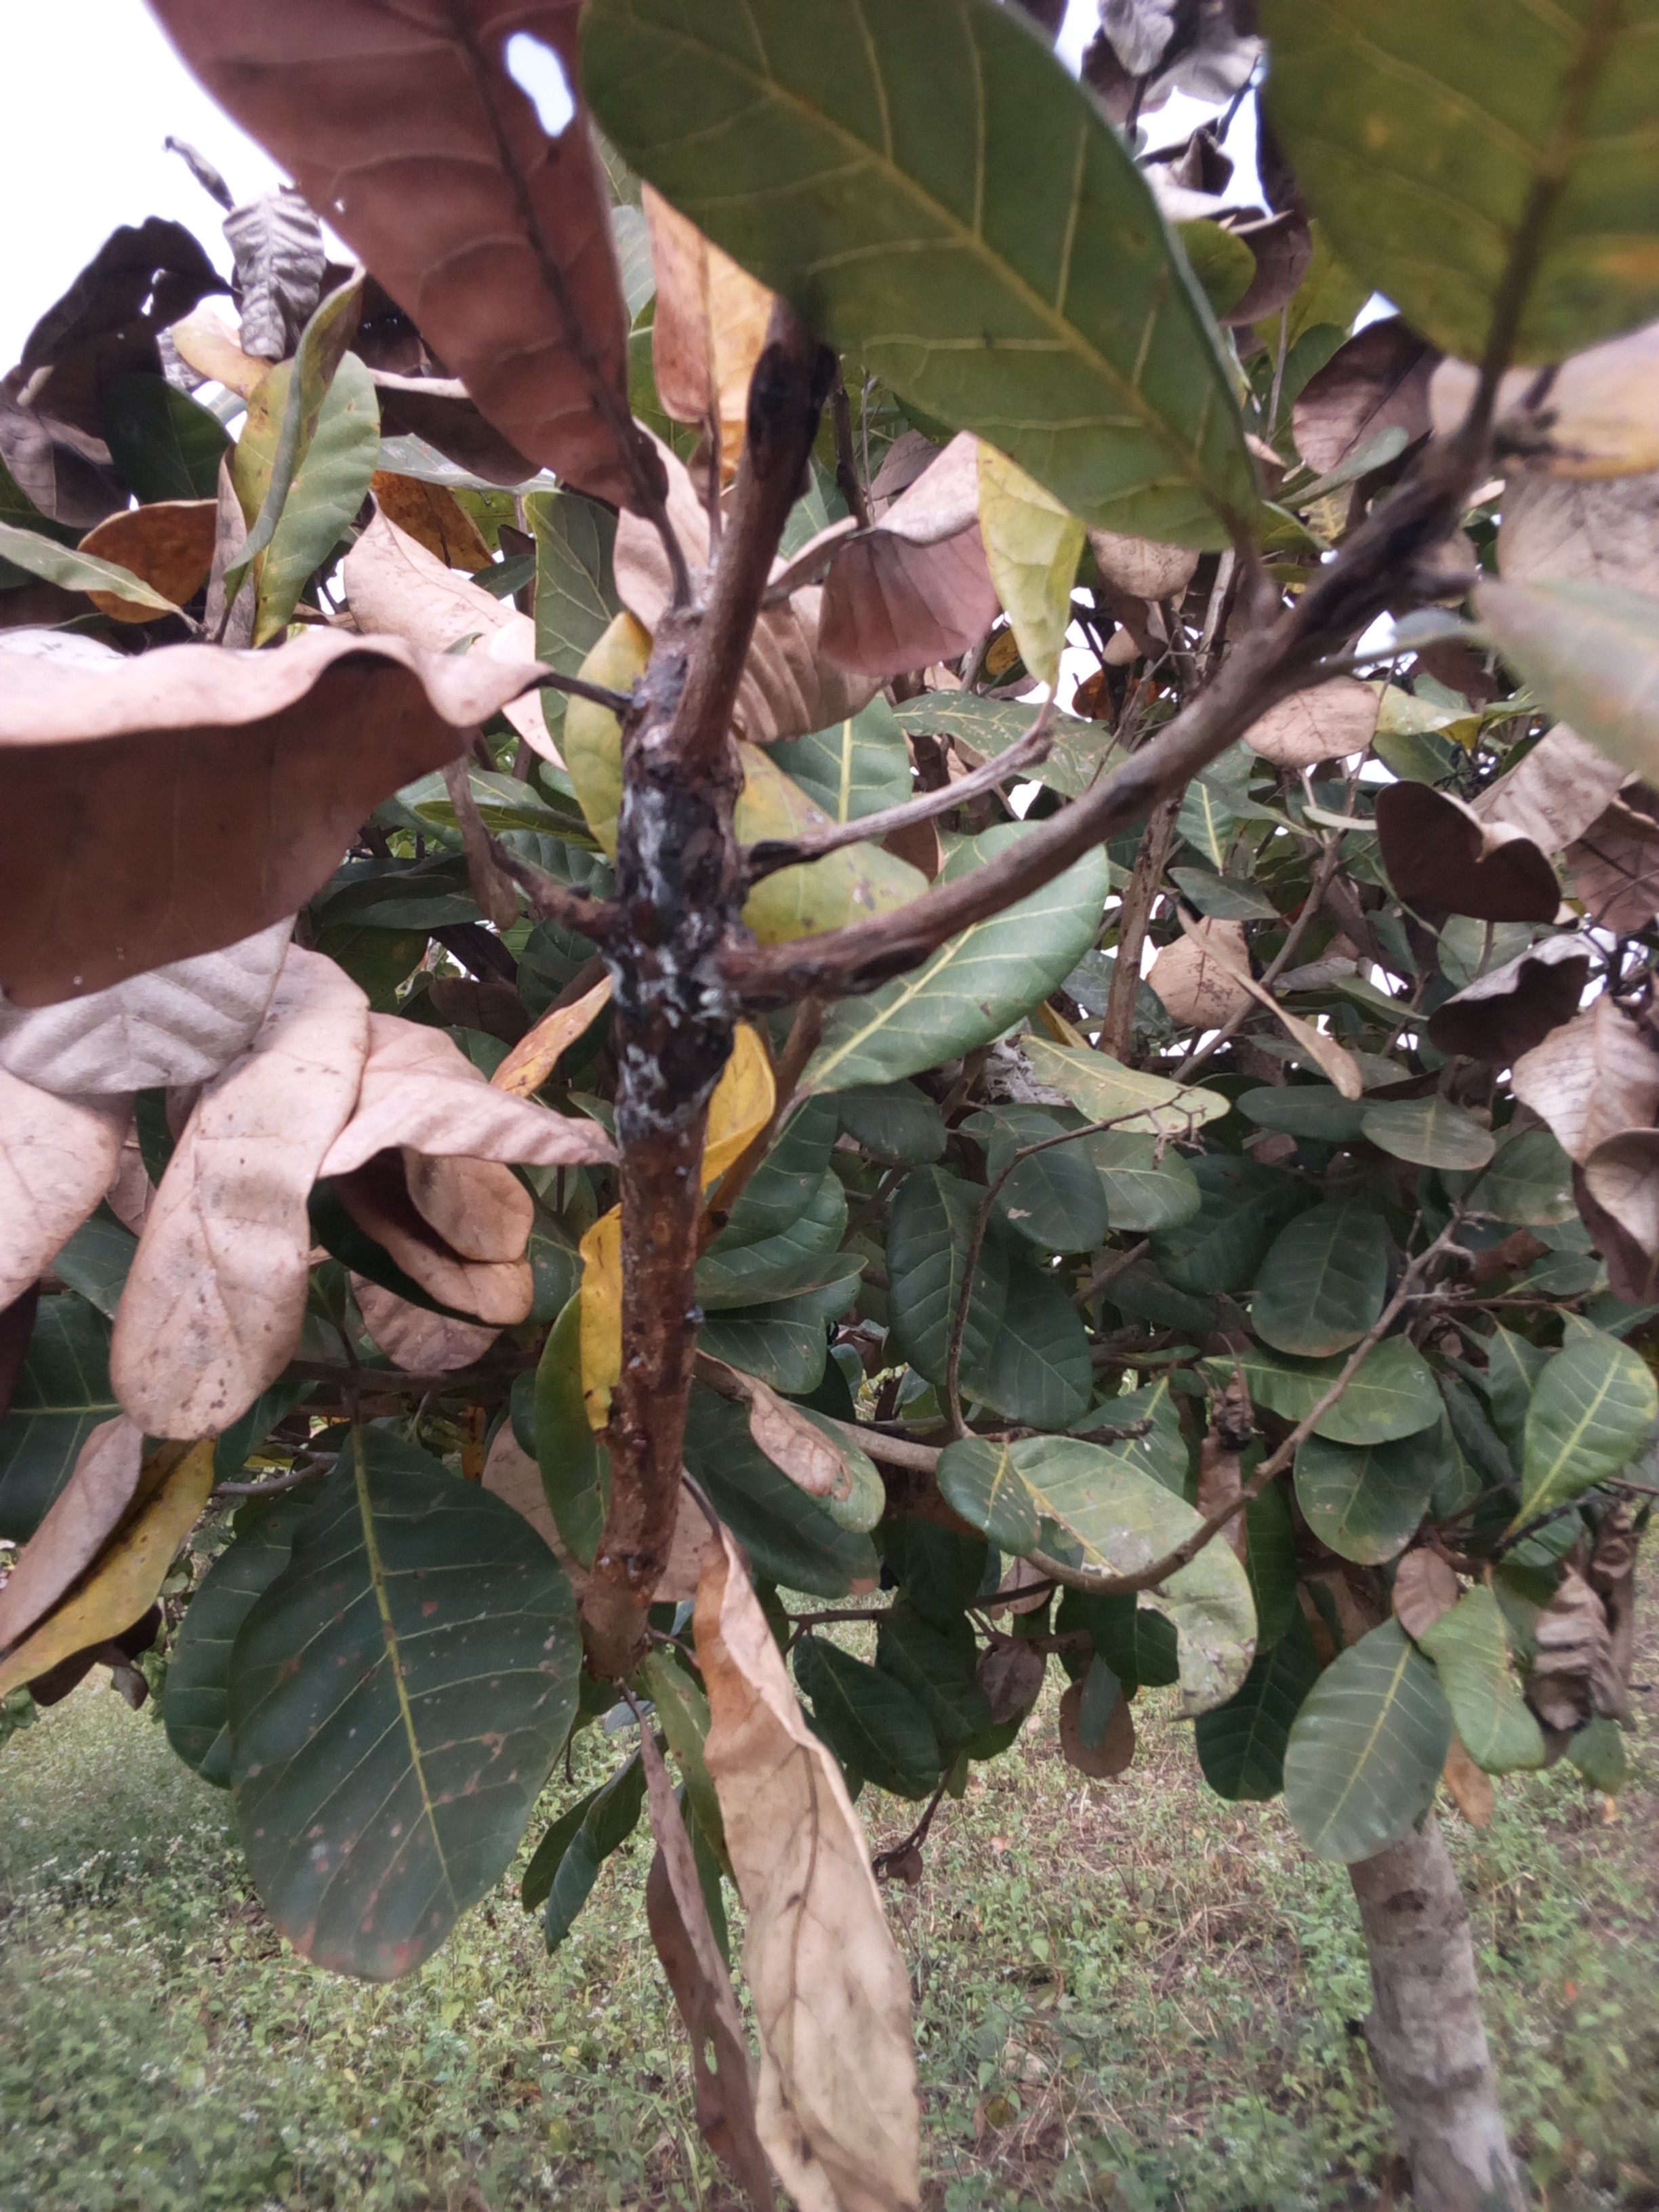Dessèchement des bourgeons: (579, 730, 758, 1153)
